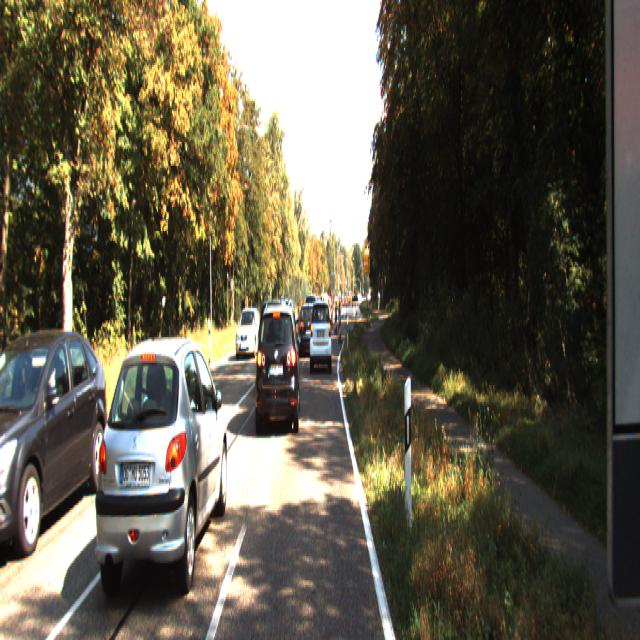Car: (92, 330, 230, 614), (0, 323, 113, 567), (256, 299, 300, 433), (256, 298, 291, 394), (310, 297, 332, 367), (234, 303, 260, 356), (296, 302, 317, 359)
